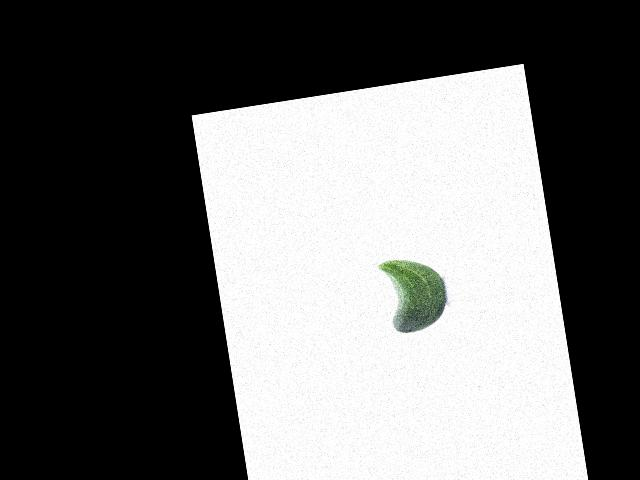cucumber: (377, 252, 450, 335)
